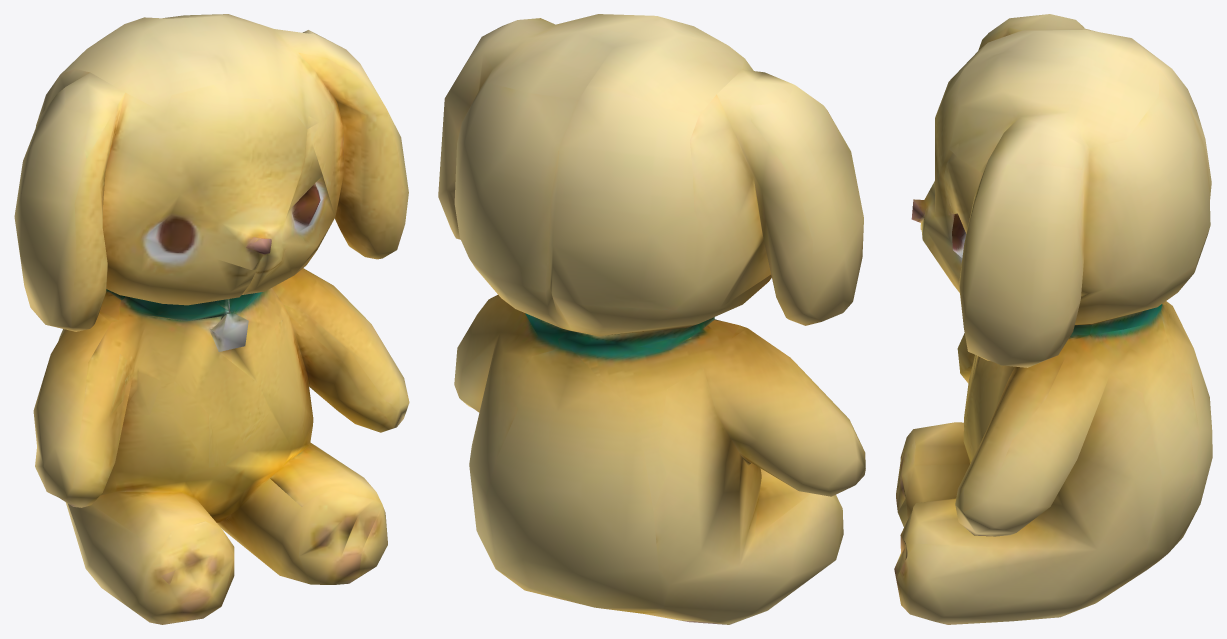
Rendered from teddybear-yellow.glb.
3 renders of one model, left to right at view 1: azimuth 30°, elevation 25°; view 2: azimuth 150°, elevation 25°; view 3: azimuth 270°, elevation 25°, orthographic. The views are drawn at different scales.
Parts seen in each view (by area): view 1: node_0; view 2: node_0; view 3: node_0.
Boxes of the visible parts, x1,y1,x2,y2 form: node_0: [14, 14, 409, 624]; node_0: [438, 14, 865, 624]; node_0: [894, 14, 1212, 624].
Size of the model in its own units: 0.7625 by 1.03 by 0.5621.
Materials: 1 (1 with a texture image).
